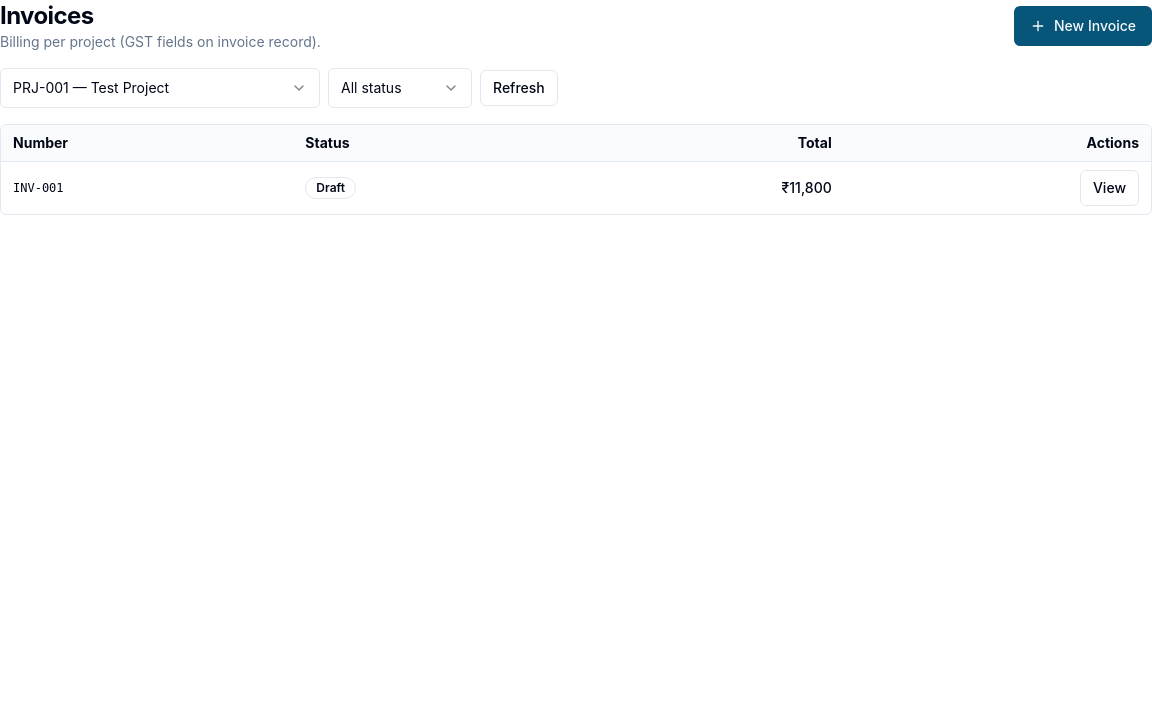
InvoicesPage › opens invoice detail dialog
The width and height of the screenshot is (1152, 720).
Check: the text "INV-001" is shown, box 1,162 -> 293,214
Click the button "View". click: coordinates (1109, 188)
box: 1080,170 -> 1139,206
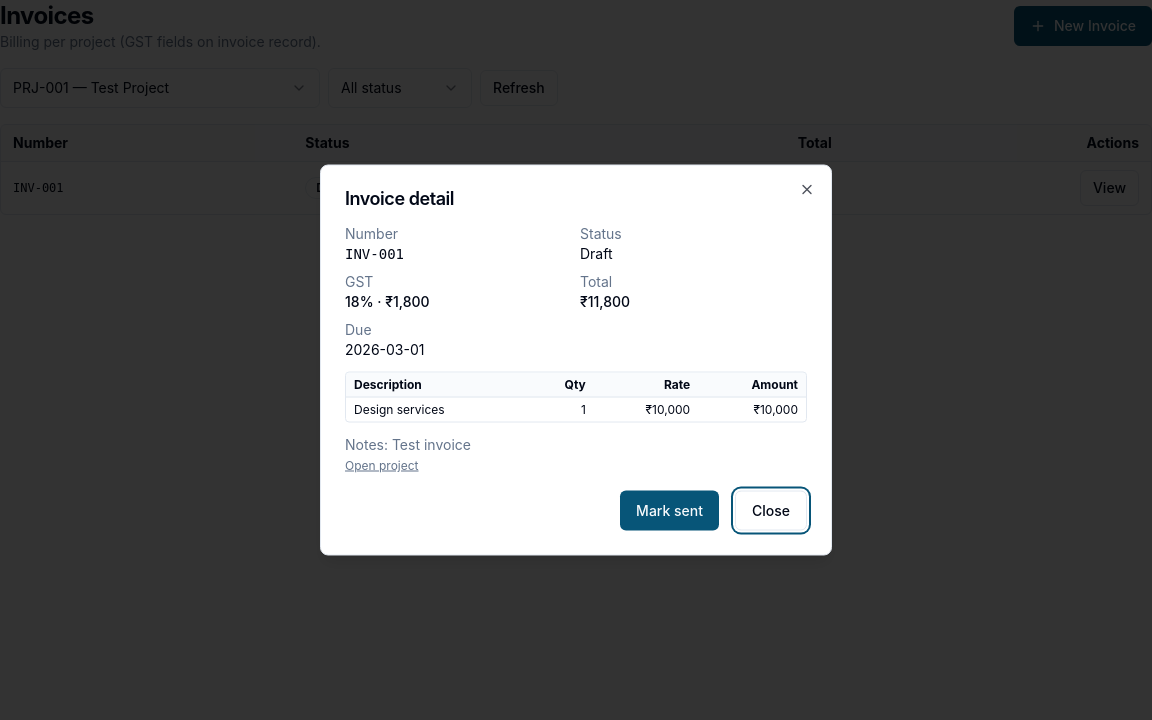
Check: the heading "Invoice detail" is shown, box 345,188 -> 454,208
